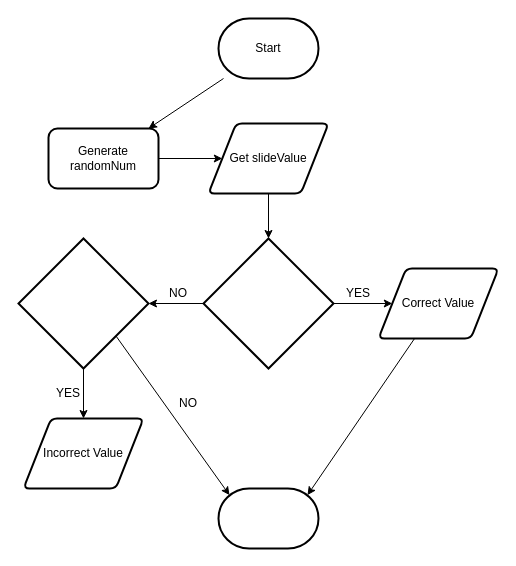
Image size: 516x566. Some labels were removed from this diagram. The centre of each missing label's shape, as x and y in pixels:
"if slideValue != randomNumber" goes at point 83,303.
"if slideValue == randomNumber" goes at point 268,303.
"Stop" goes at point 268,518.
